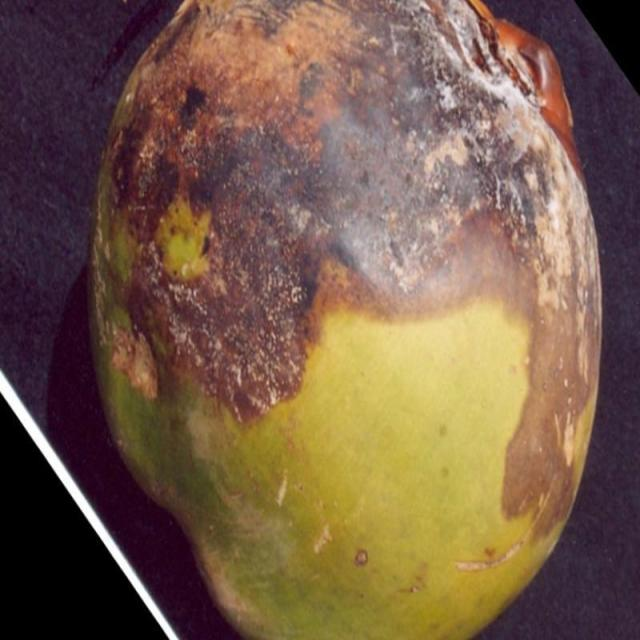damaged: (89, 0, 601, 639)
